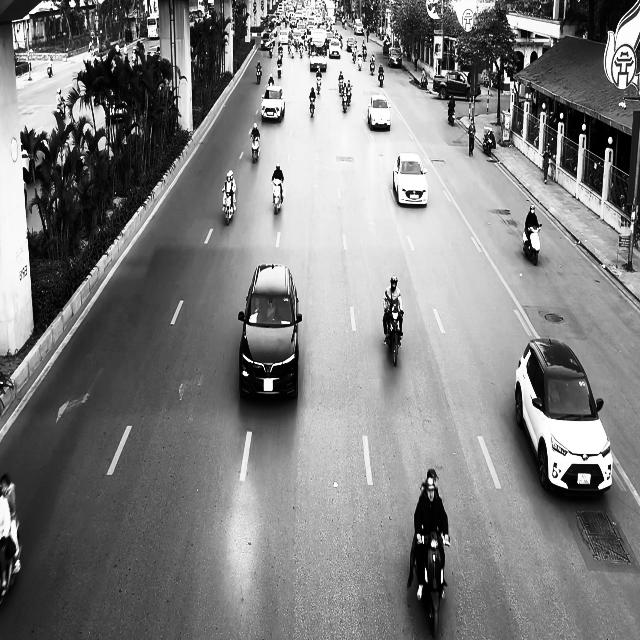car: (515, 337, 613, 497), (238, 262, 302, 400), (393, 152, 428, 206), (367, 94, 392, 130), (261, 85, 285, 122), (388, 48, 402, 67), (347, 36, 357, 52)
motorbike: (410, 530, 450, 638), (384, 307, 404, 366), (523, 223, 542, 265), (222, 188, 236, 225), (272, 178, 284, 214), (250, 132, 261, 163), (483, 128, 494, 156), (309, 94, 316, 118), (448, 107, 455, 126), (316, 74, 322, 94), (256, 66, 262, 84), (378, 72, 384, 86)
